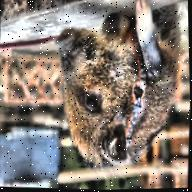boar: (46, 0, 184, 182)
